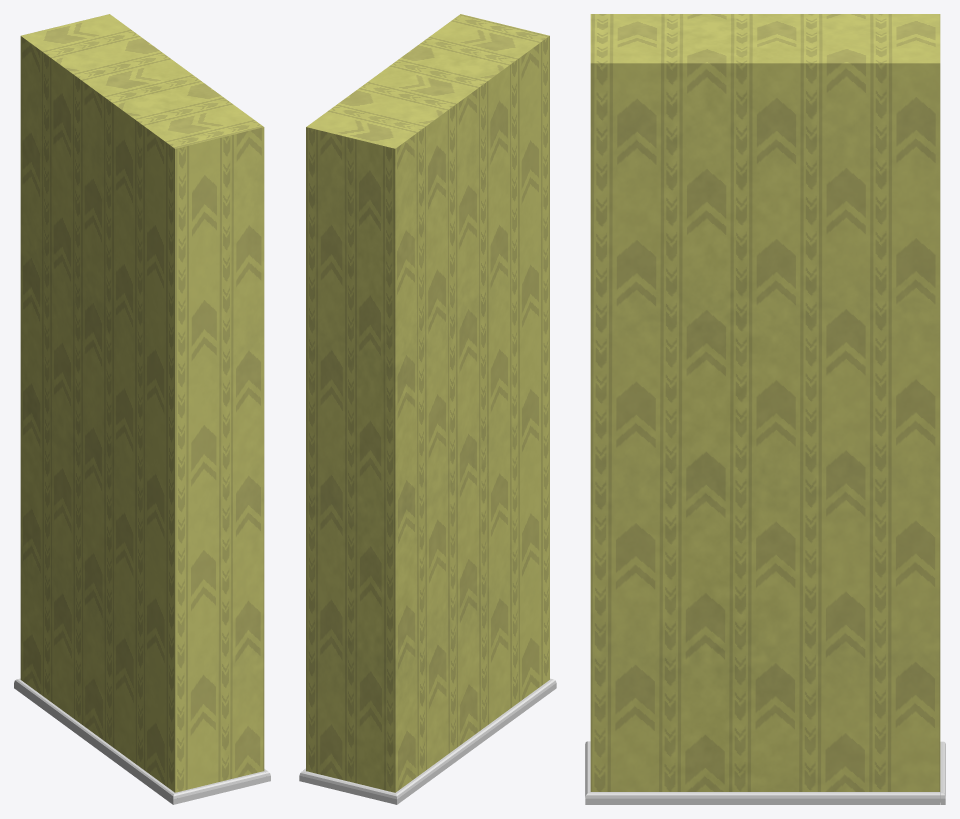
Rendered from Wall_Short.fbx.
3 renders of one model, left to right at view 1: azimuth 30°, elevation 25°; view 2: azimuth 150°, elevation 25°; view 3: azimuth 270°, elevation 25°, orthographic. The views are drawn at different scales.
Visible parts, largest first — view 1: Wall short, Cube.009, Cube.011; view 2: Wall short, Cube.009, Cube.010; view 3: Wall short, Cube.008.
Part boxes in pixels (x1,y1,x2,y2): Wall short: (20,14,264,792); Cube.009: (16,680,174,802); Cube.011: (175,771,266,803); Wall short: (306,14,549,792); Cube.009: (395,680,553,802); Cube.010: (303,771,394,803); Wall short: (590,14,940,791); Cube.008: (591,792,939,804).
Bounding box in the file's own units: 110 × 700 × 309.
Materials: 1 (1 with a texture image).
